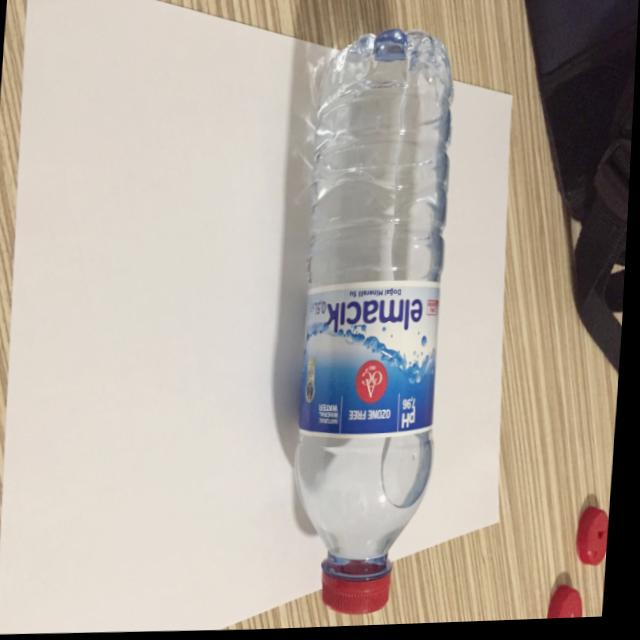anorganik: (256, 13, 470, 627)
